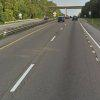Bridge: (22, 1, 97, 16)
